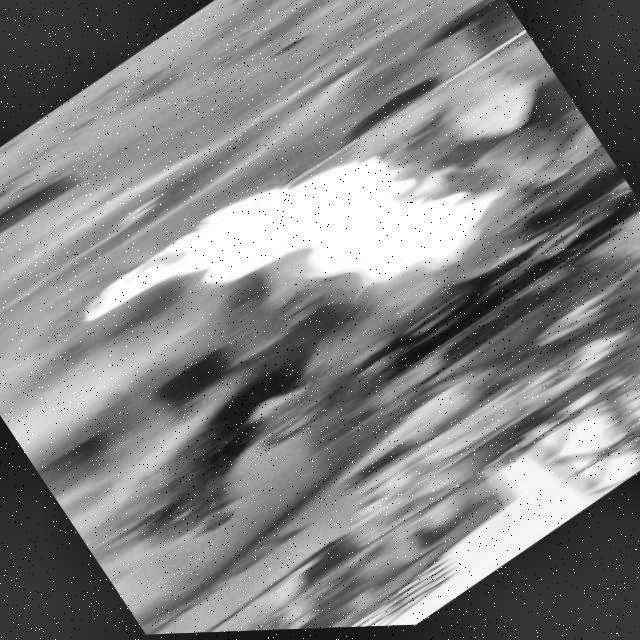Fire: (72, 64, 530, 463)
